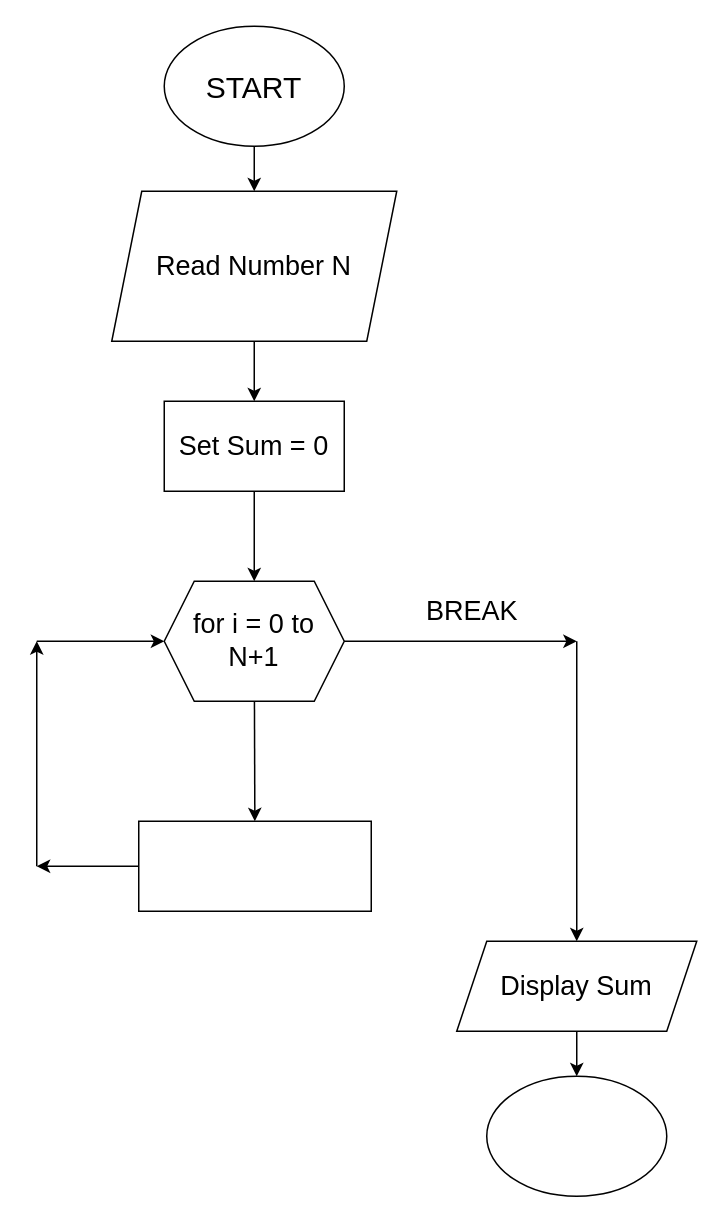
This 723x1223 diagram has some shape labels left out. Each missing label, with the centre of its shape:
"END" belongs at point (576, 1135).
"Sum = Sum + i" belongs at point (254, 865).
